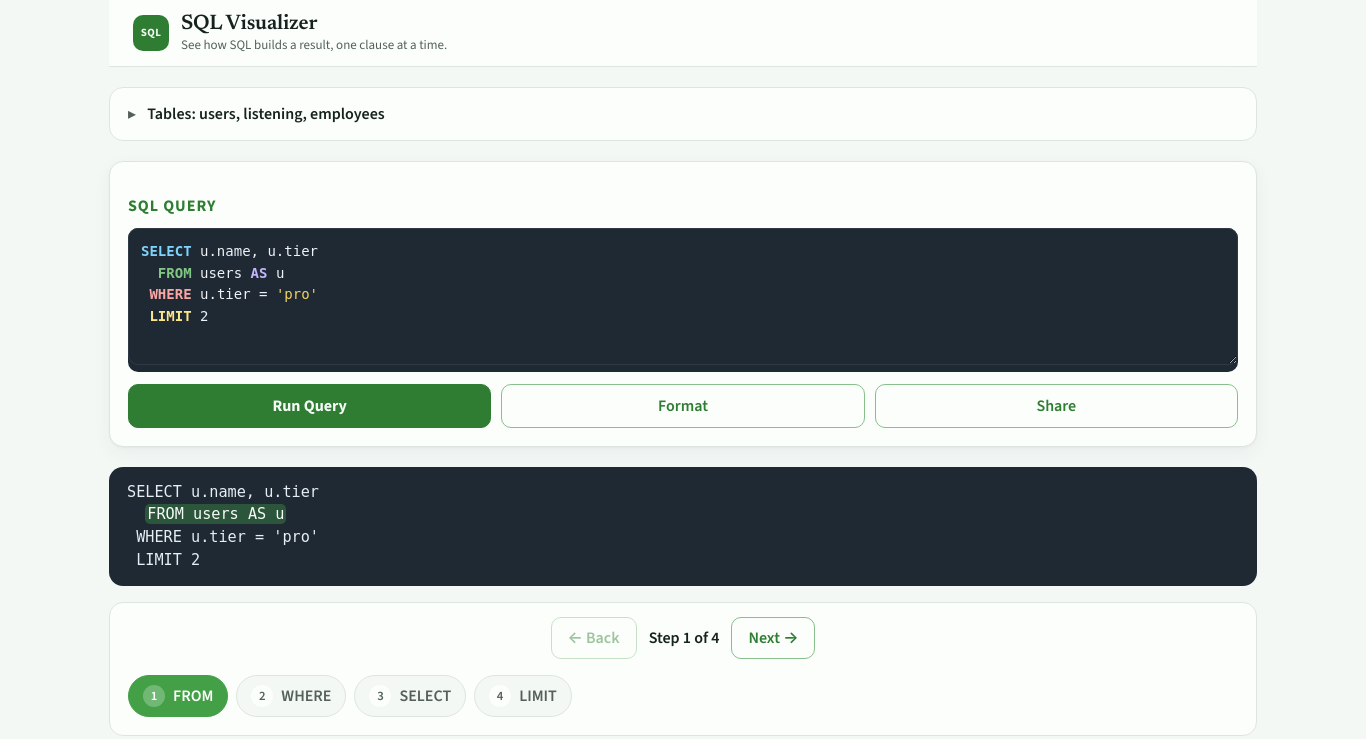
it: App › keeps the pinned query on the traced SQL while the editor changes and after a failed run
Type " -- note" into the text box labelled "SQL query" at (683, 296), box [128,228,1238,364]
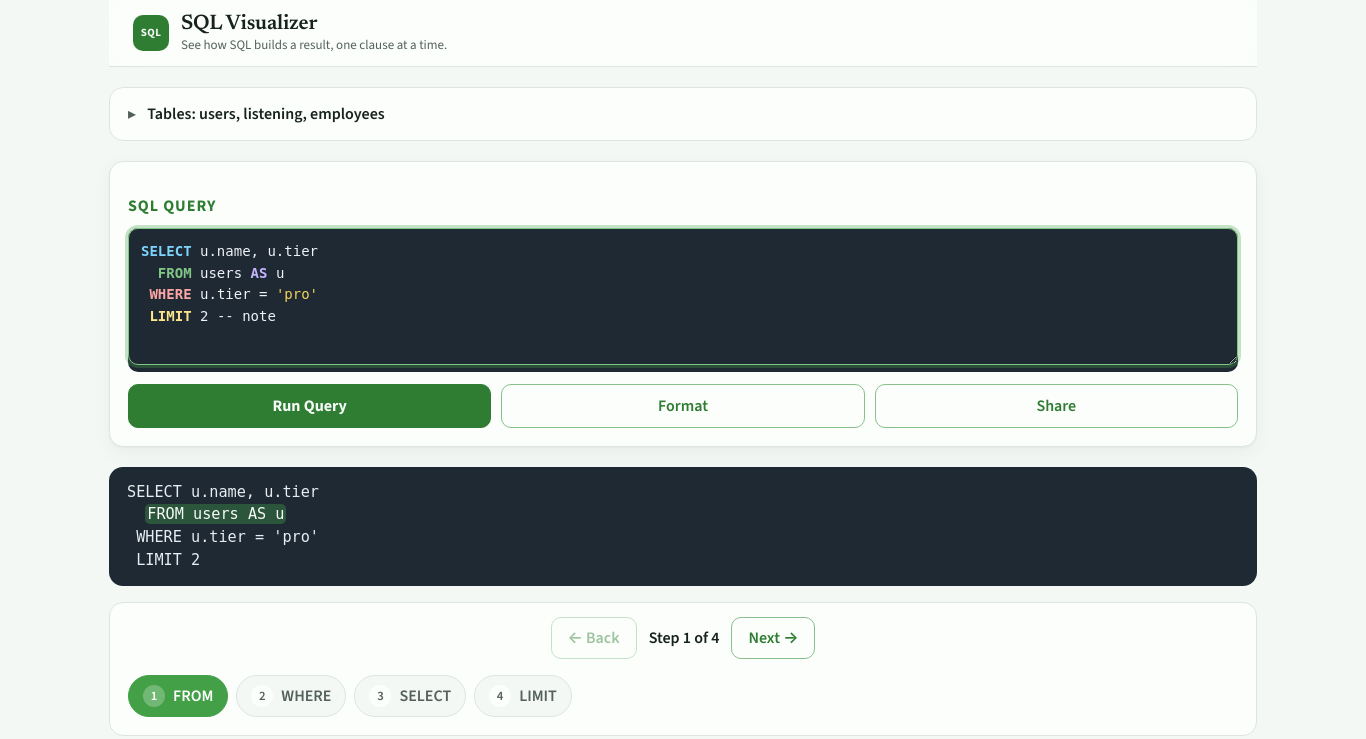
Expected: the element named "Full SQL query" does not show "-- note", [109,466,1257,586]
Expected: the text with class "active-query-clause" reads "FROM users AS u", [147,505,284,523]
Clear the text box labelled "SQL query" at (683, 296), box [128,228,1238,364]
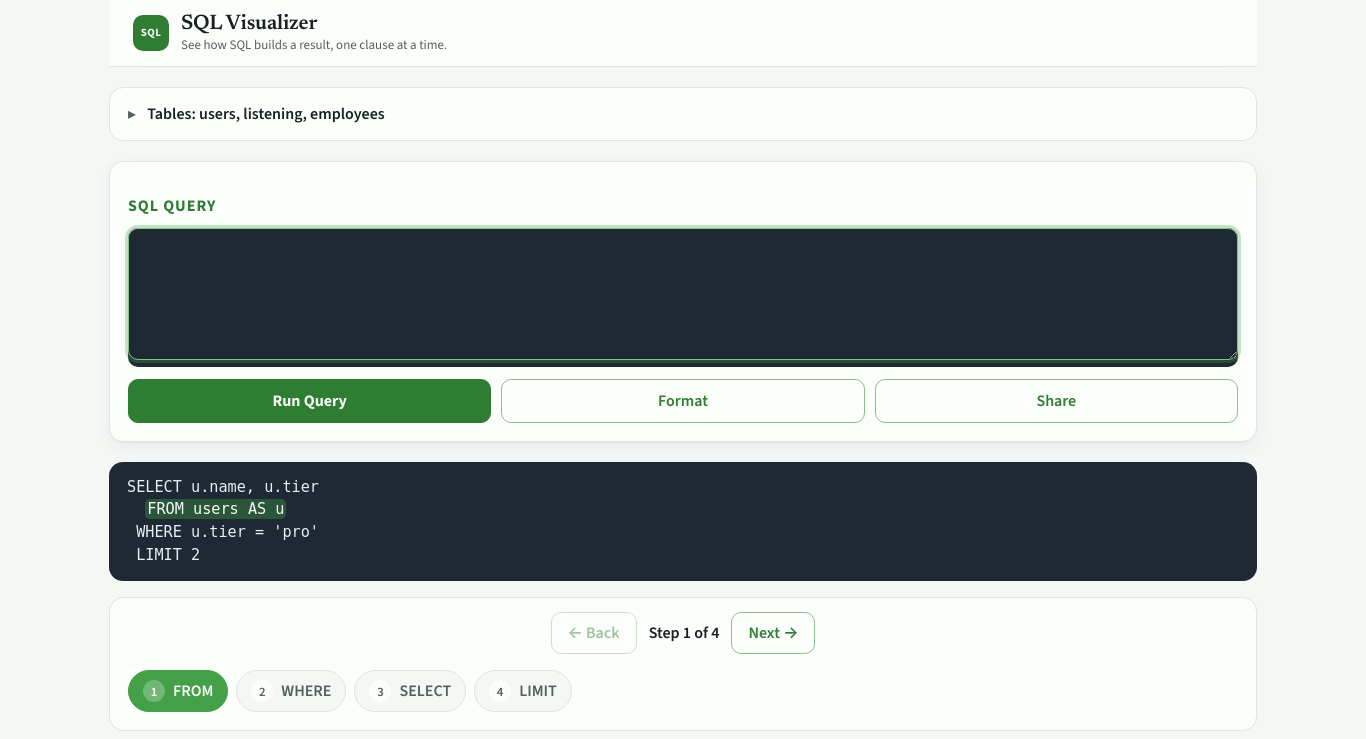
Type "SELECT name FROM users LIMIT 2 ORDER BY name" into the text box labelled "SQL query" at (683, 294), box [128,228,1238,360]
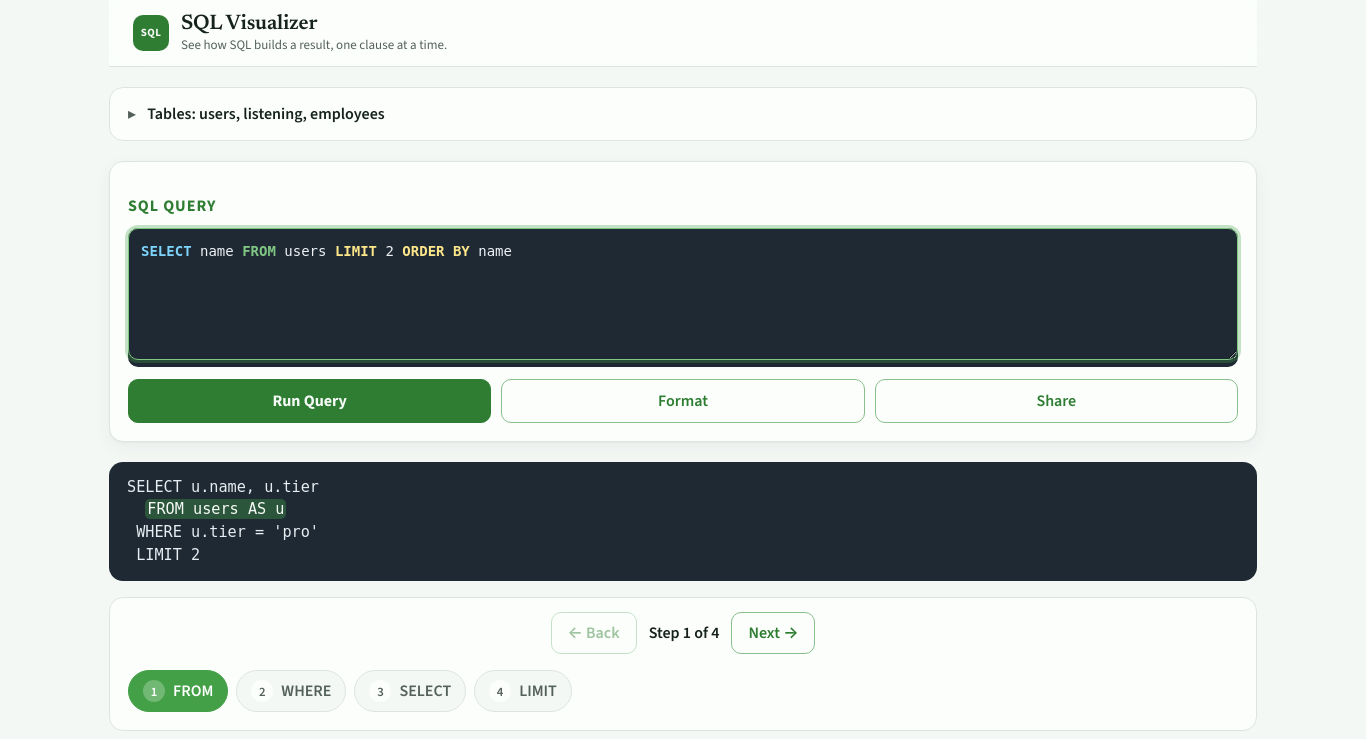
Click the button "Run Query" at (310, 401), box [128,379,491,423]
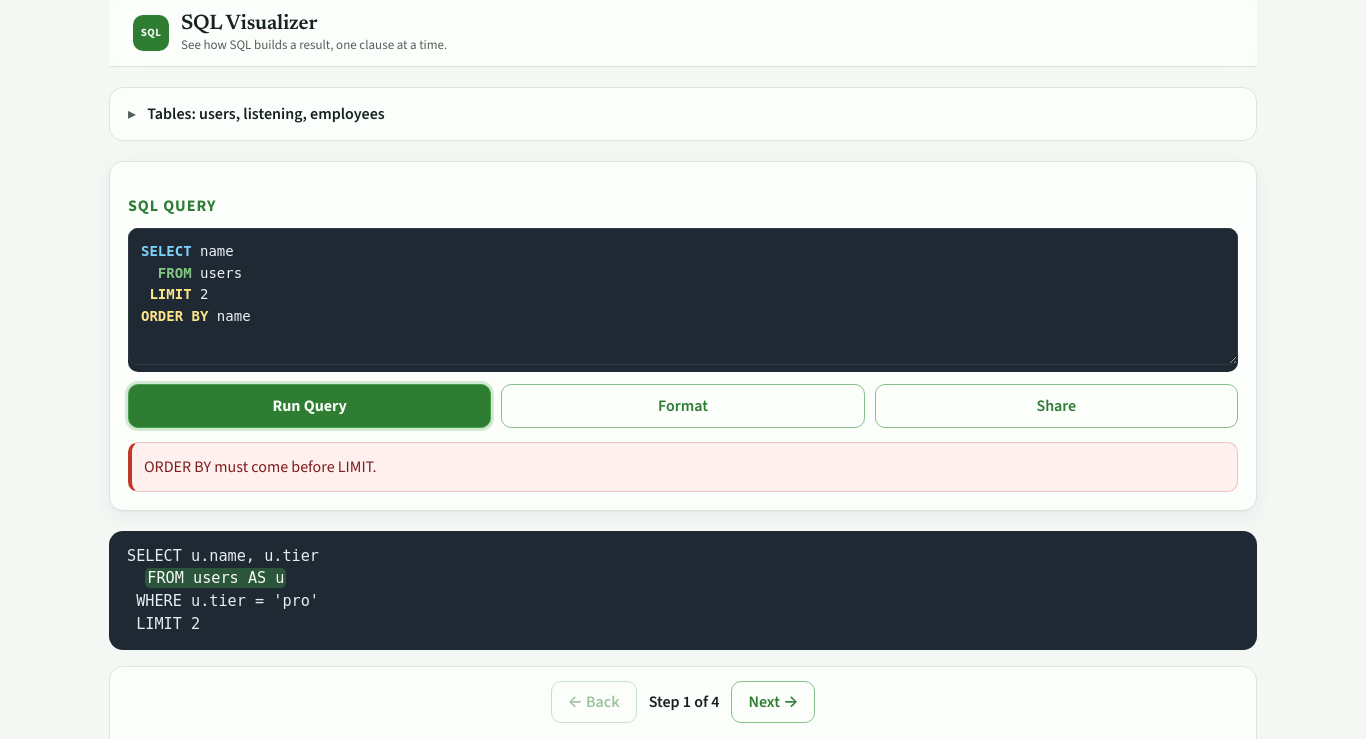
Expected: the text "Step 1 of 4" is shown, [649,690,719,714]
Expected: the message reads "ORDER BY must come before LIMIT.", [144,456,376,476]
